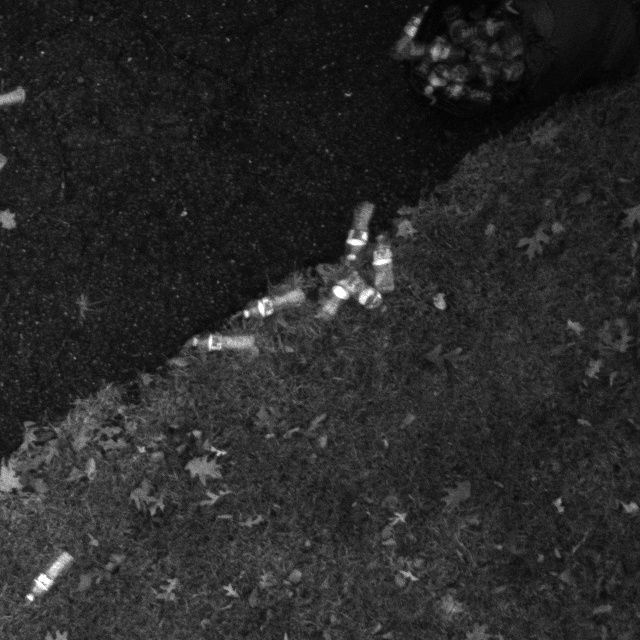bottle: (185, 313, 259, 364), (17, 544, 79, 599), (358, 228, 403, 301), (309, 264, 359, 328), (332, 189, 377, 258), (437, 44, 480, 116), (242, 280, 308, 325), (415, 44, 461, 108), (391, 0, 439, 61)
